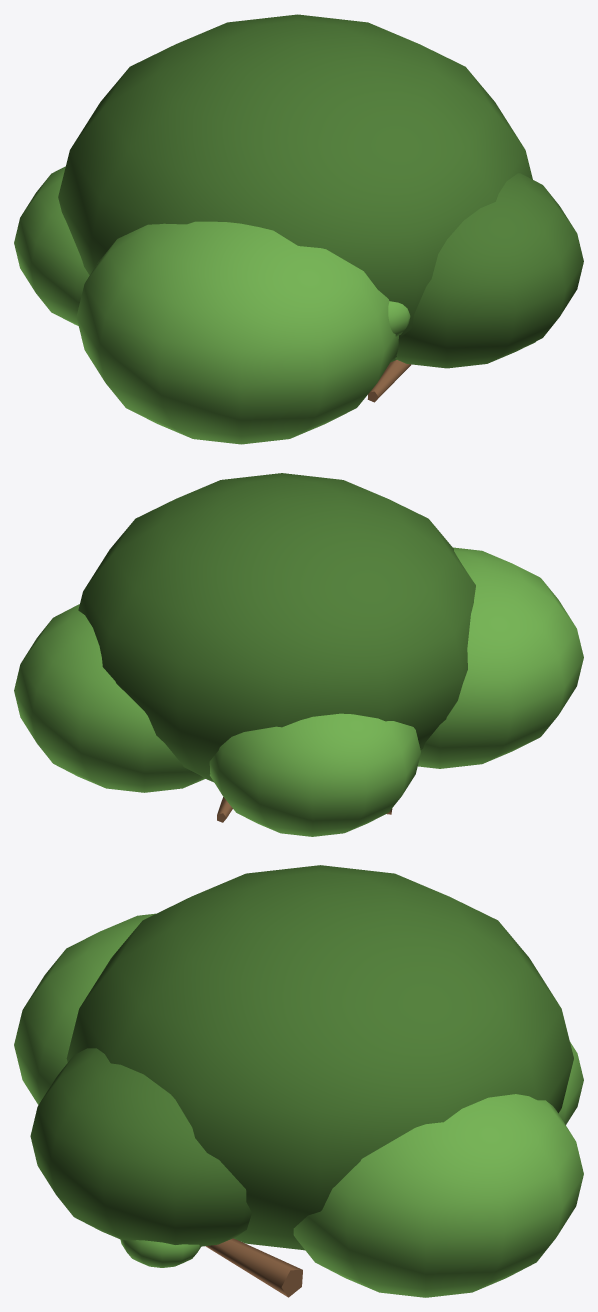
File: tree-shrub.glb
The picture shows the model from 3 angles, top to bottom: view 1: azimuth 30°, elevation 25°; view 2: azimuth 150°, elevation 25°; view 3: azimuth 270°, elevation 25°; orthographic projection. The views are drawn at different scales.
Visible parts, largest first — view 1: Mesh_CoreBlob, Mesh_FrontLeftBlob, Mesh_BackRightBlob, Mesh_LeftBackBlob, Mesh_Root_A, Mesh_TuftGrass_E; view 2: Mesh_CoreBlob, Mesh_FrontLeftBlob, Mesh_LeftBackBlob, Mesh_FrontRightBlob; view 3: Mesh_CoreBlob, Mesh_FrontRightBlob, Mesh_BackRightBlob, Mesh_FrontLeftBlob, Mesh_Root_A, Mesh_TuftGrass_D, Mesh_LeftBackBlob.
Boxes of the visible parts, x1,y1,x2,y2 form: Mesh_CoreBlob: (58,14,532,362); Mesh_FrontLeftBlob: (76,221,398,444); Mesh_BackRightBlob: (395,173,583,368); Mesh_LeftBackBlob: (14,166,89,325); Mesh_Root_A: (367,360,411,402); Mesh_TuftGrass_E: (388,301,410,336); Mesh_CoreBlob: (78,473,475,782); Mesh_FrontLeftBlob: (418,547,583,768); Mesh_LeftBackBlob: (209,713,420,836); Mesh_FrontRightBlob: (14,604,204,792); Mesh_CoreBlob: (66,865,573,1250); Mesh_FrontRightBlob: (293,1094,583,1297); Mesh_BackRightBlob: (30,1048,251,1246); Mesh_FrontLeftBlob: (14,913,155,1104); Mesh_Root_A: (205,1238,302,1297); Mesh_TuftGrass_D: (120,1239,200,1267); Mesh_LeftBackBlob: (558,1042,583,1124).
Bounding box in the file's own units: 0.925 × 0.5759 × 0.865.
